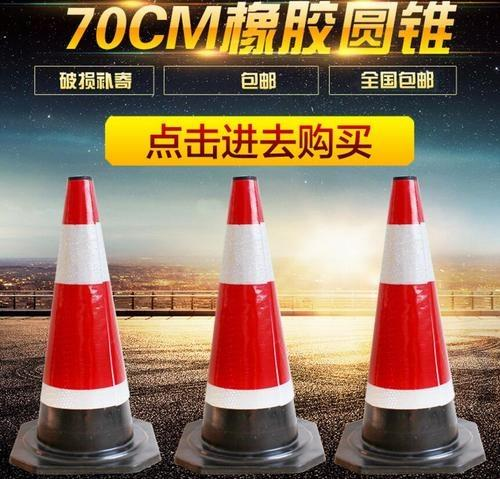cone_barrel: (338, 180, 475, 469), (180, 180, 316, 468), (21, 178, 150, 465)
